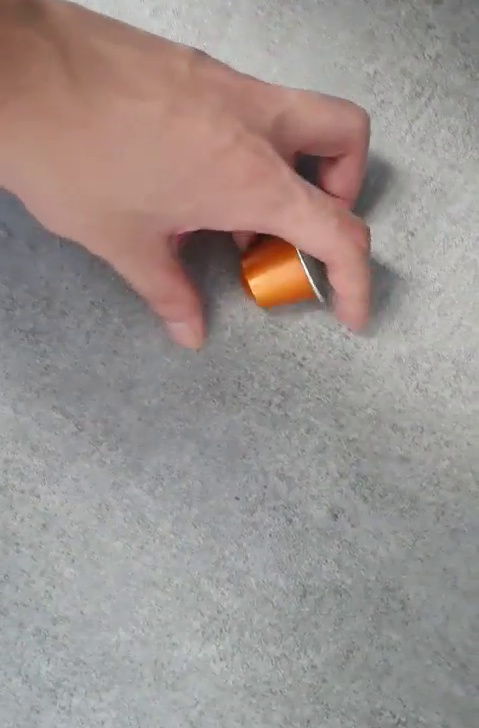capsule_5: (234, 215, 332, 310)
